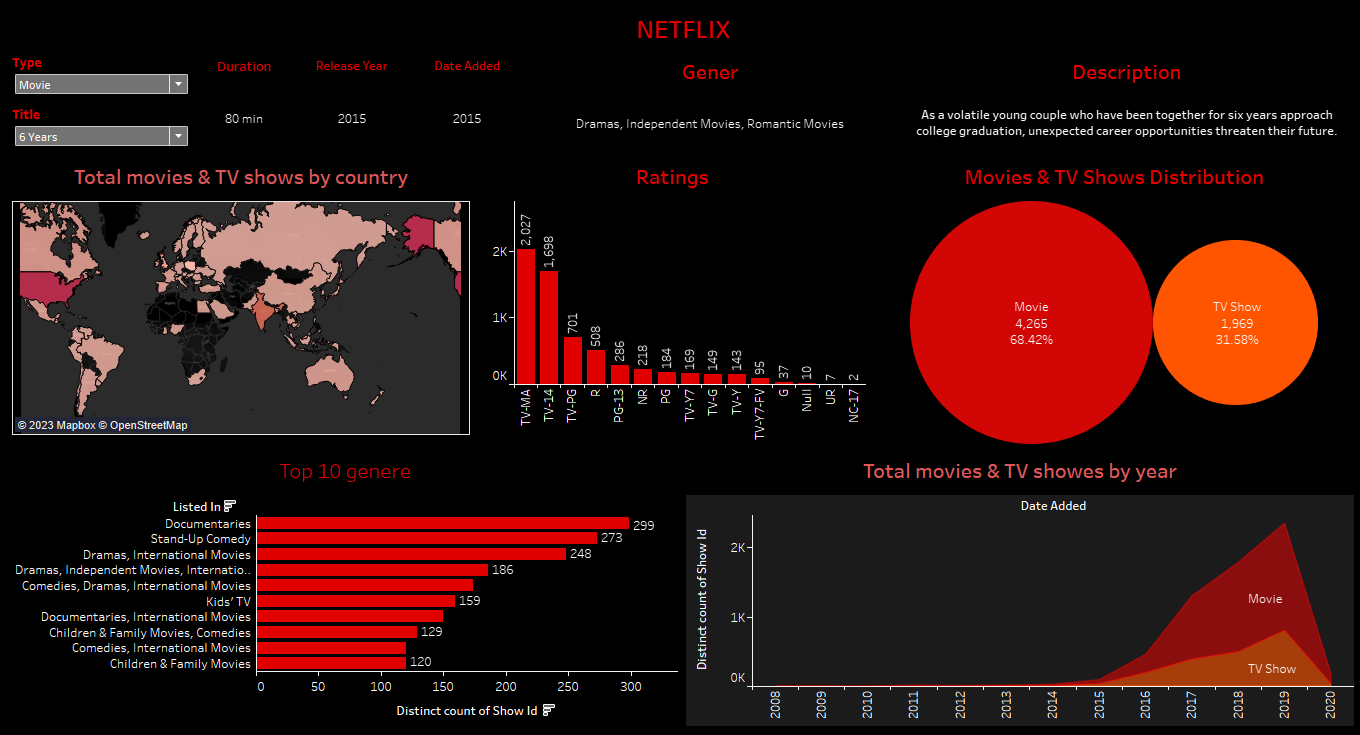

This screenshot's page, from the dashboard's own definition file:
{"tool":"tableau","page":{"name":"NETFLIX","canvas":[1000,1000],"units":"permille","ordinal":0},"visuals":[{"type":"title","box":[6,12.7,988.1,64.9]},{"type":"filter","title":"Description","param":"[federated.008df1t0hckvai1fj36d2170ugn0].[none:type:nk]","box":[6,77.5,137.1,70.2]},{"type":"worksheet","title":"Duration","mark":"Automatic","box":[143,77.5,72,140.3]},{"type":"worksheet","title":"Release Year","mark":"Automatic","box":[215,77.5,84.2,140.3]},{"type":"worksheet","title":"Date Added","mark":"Automatic","box":[299.2,77.5,85,140.3]},{"type":"worksheet","title":"Gener","mark":"Automatic","box":[384.2,77.5,270.7,140.3]},{"type":"worksheet","title":"Description","mark":"Automatic","box":[654.9,77.5,339.2,140.3]},{"type":"filter","title":"Description","param":"[federated.008df1t0hckvai1fj36d2170ugn0].[none:title:nk]","box":[6,147.7,137.1,70.1]},{"type":"worksheet","title":"Total movies & TV shows by country","mark":"Multipolygon","box":[6,217.8,340.9,392.9]},{"type":"worksheet","title":"Ratings","mark":"Automatic","rows":["show_id"],"cols":["rating"],"box":[346.9,217.8,289.8,392.9]},{"type":"worksheet","title":"Movies & TV Shows Distribution","mark":"Circle","box":[636.6,217.8,357.4,392.9]},{"type":"worksheet","title":"Top 10 genere","mark":"Automatic","rows":["listed_in"],"cols":["show_id"],"box":[6,610.8,493.6,376.6]},{"type":"worksheet","title":"Total movies & TV showes by year","mark":"Area","rows":["show_id"],"cols":["date_added"],"box":[499.6,610.8,494.5,376.6]}]}

Visuals, with their boxes on the dashboard's canvas, which has no fixed pixel size, in thousandths of its width and height (x1, y1, x2, y2). These are canvas units, not pixel positions in the 1360x735 screenshot, which may show the page scaled, cropped or inside an application window:
title: bbox=[6, 13, 994, 78]
"Description" filter: bbox=[6, 78, 143, 148]
"Duration" worksheet: bbox=[143, 78, 215, 218]
"Release Year" worksheet: bbox=[215, 78, 299, 218]
"Date Added" worksheet: bbox=[299, 78, 384, 218]
"Gener" worksheet: bbox=[384, 78, 655, 218]
"Description" worksheet: bbox=[655, 78, 994, 218]
"Description" filter: bbox=[6, 148, 143, 218]
"Total movies & TV shows by country" worksheet (Multipolygon marks): bbox=[6, 218, 347, 611]
"Ratings" worksheet: bbox=[347, 218, 637, 611]
"Movies & TV Shows Distribution" worksheet (Circle marks): bbox=[637, 218, 994, 611]
"Top 10 genere" worksheet: bbox=[6, 611, 500, 987]
"Total movies & TV showes by year" worksheet (Area marks): bbox=[500, 611, 994, 987]
